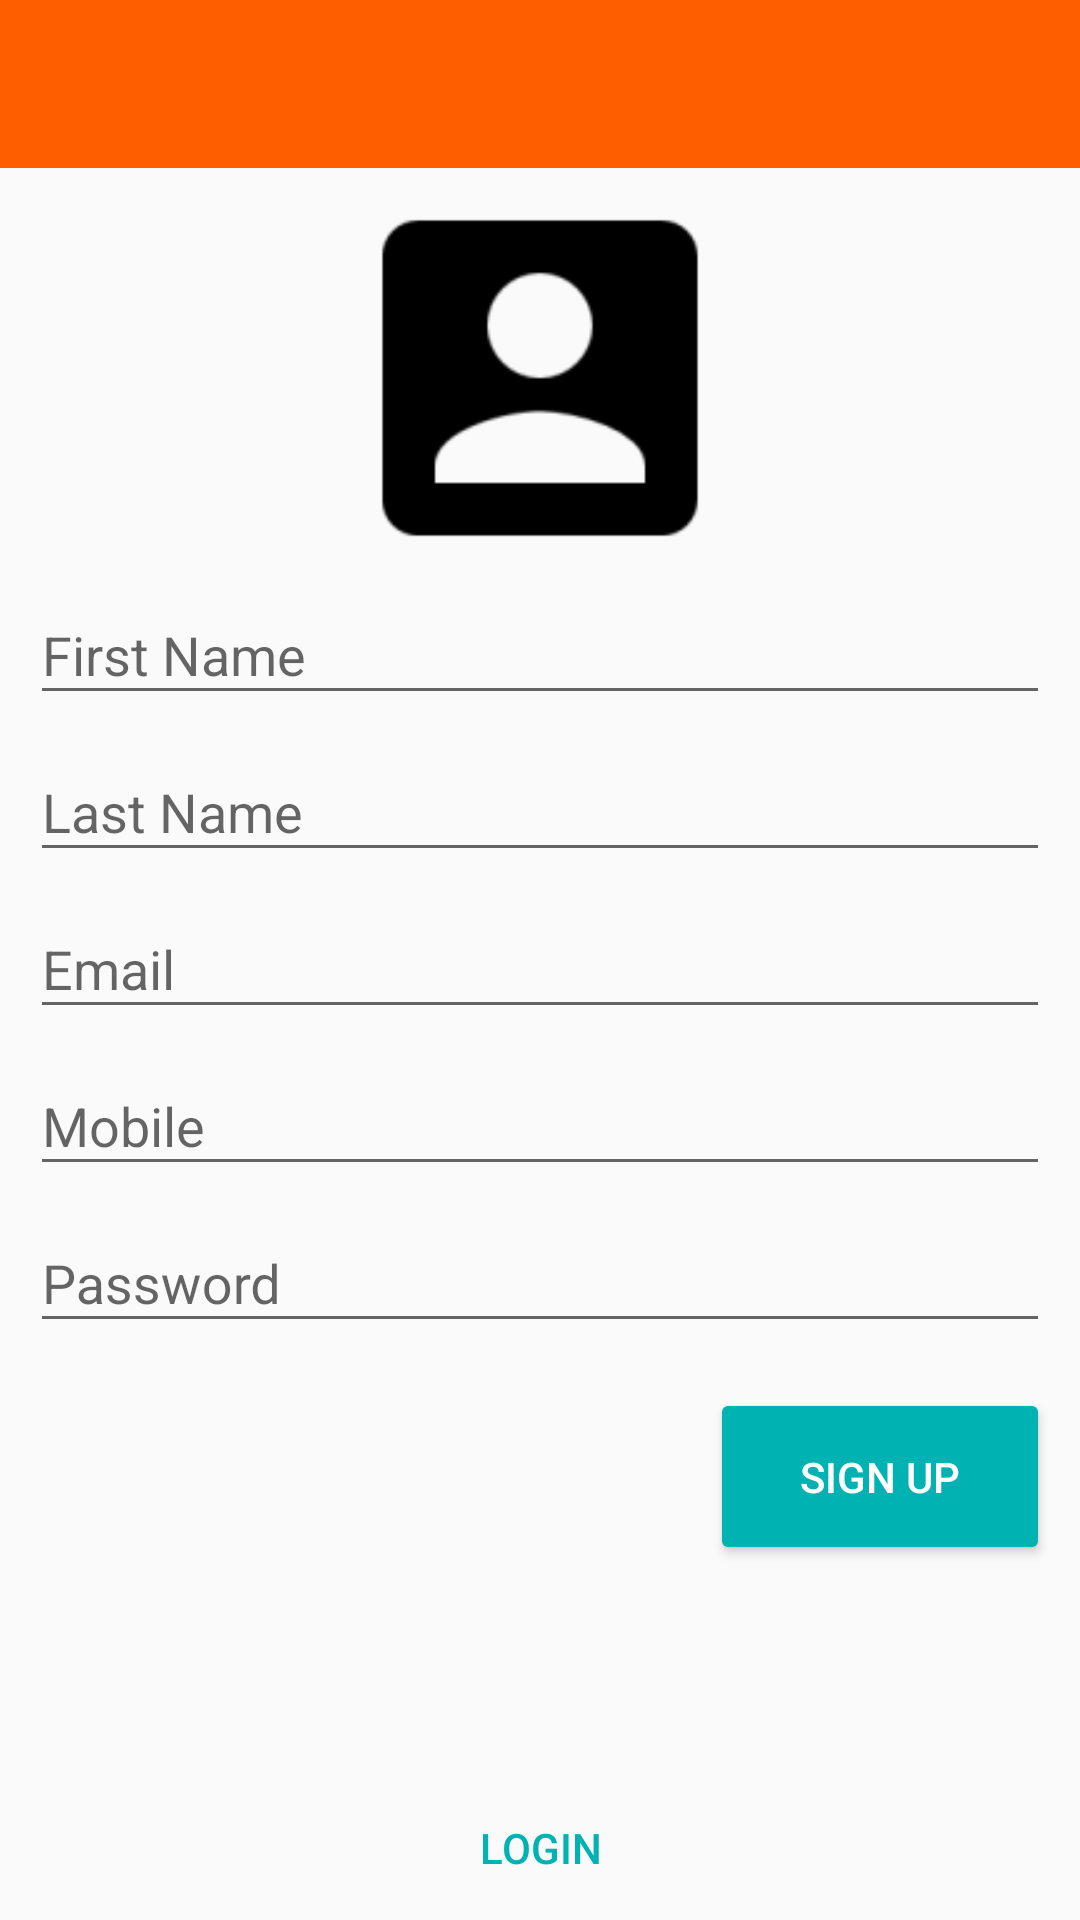

Where to tap for icons on this 1080 × 1920 app screen, as point (x, y):
user: point (540, 378)
